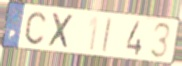1: (88, 15, 100, 53)
3: (149, 20, 172, 60)
4: (125, 20, 143, 57)
C: (24, 11, 48, 47)
I: (100, 16, 113, 54)
X: (46, 11, 75, 51)
